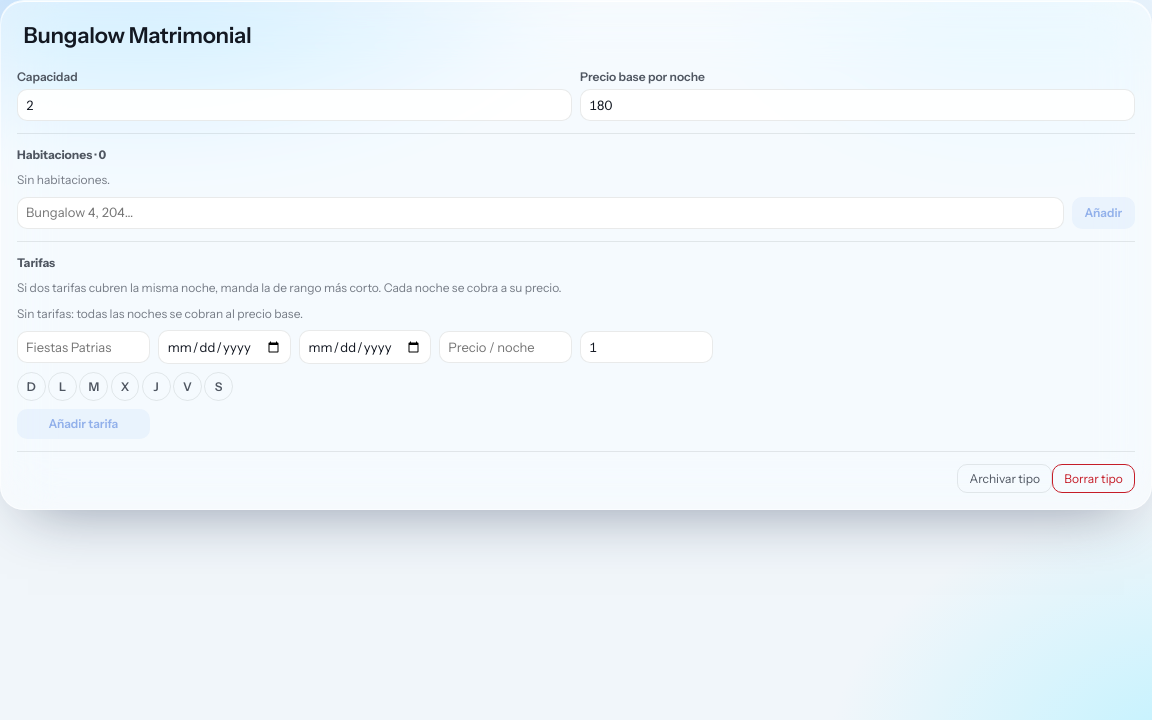
Borrar un tipo de habitación › si el servidor lo rechaza, se dice con sus palabras
Click the button "Borrar tipo". click: {"x": 1094, "y": 479}
box: [1052,464,1135,493]
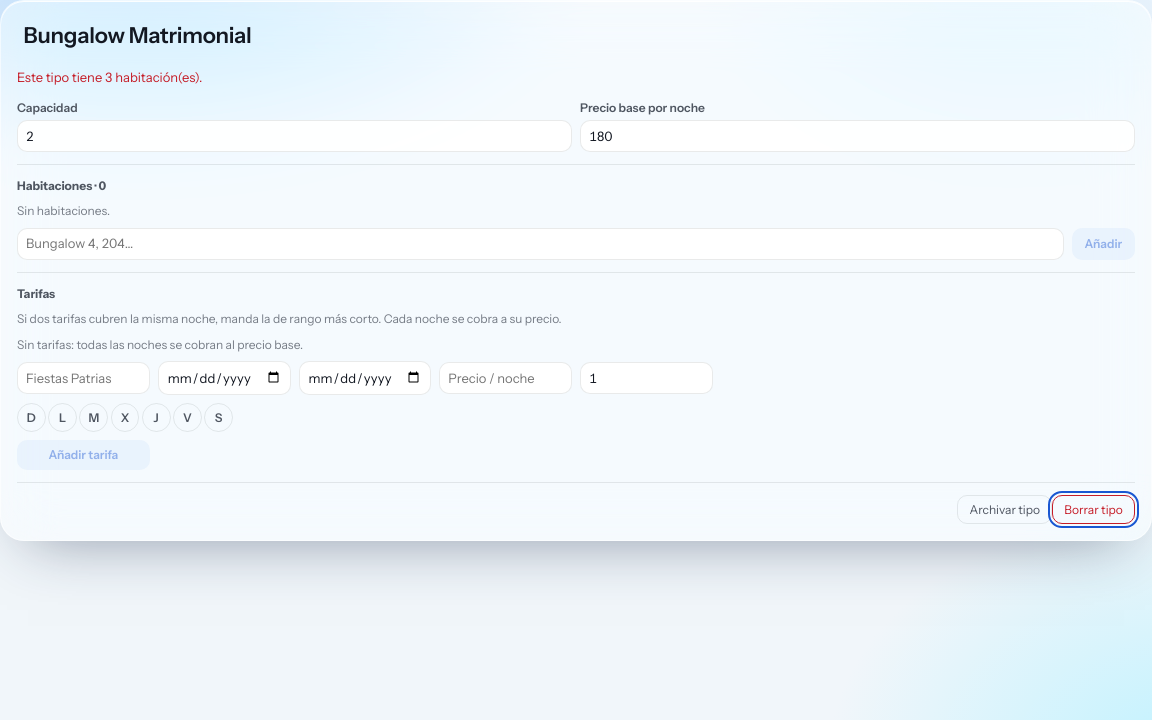
Expected: the text "Este tipo tiene 3 habitación(es)." is shown, [17,69,202,85]
